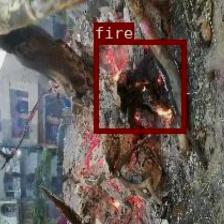fire: (92, 39, 186, 132)
